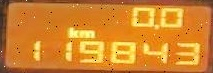-: (152, 23, 158, 30)
0: (128, 7, 155, 27), (158, 7, 183, 27)
1: (31, 39, 41, 61), (63, 40, 71, 61)
3: (174, 41, 199, 64)
4: (141, 42, 168, 63)
8: (108, 41, 135, 62)
9: (77, 40, 102, 62)
X: (66, 26, 79, 38), (77, 29, 94, 38)
